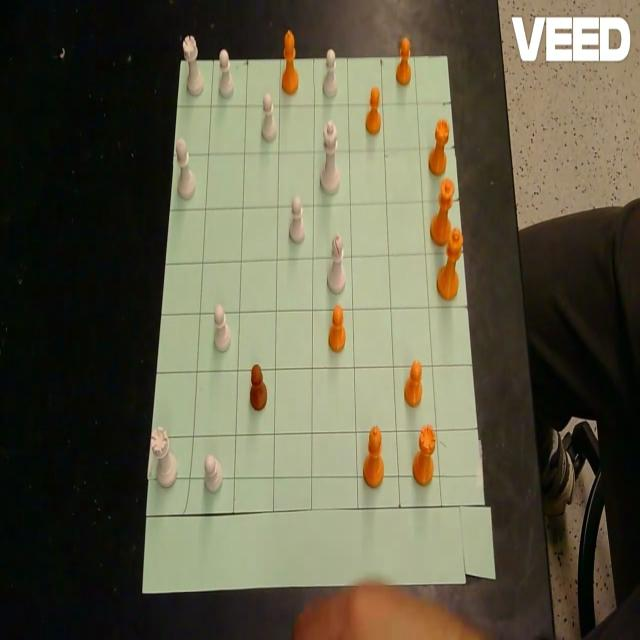orange_bishop: (430, 177, 454, 246), (363, 426, 384, 488), (428, 117, 449, 176), (282, 28, 298, 93)
orange_king: (436, 225, 464, 302)
orange_pawn: (404, 359, 423, 408), (329, 304, 346, 352), (396, 35, 412, 85), (250, 364, 267, 411), (365, 86, 381, 134)
orange_rook: (412, 425, 436, 486)
white_bishop: (176, 135, 196, 199), (327, 232, 345, 294)
white_king: (320, 118, 340, 193)
white_pawn: (213, 303, 231, 352), (261, 91, 277, 142), (289, 195, 305, 244), (219, 46, 234, 98), (204, 452, 223, 493), (323, 47, 338, 97)
white_rook: (152, 426, 179, 488), (183, 33, 204, 96)
